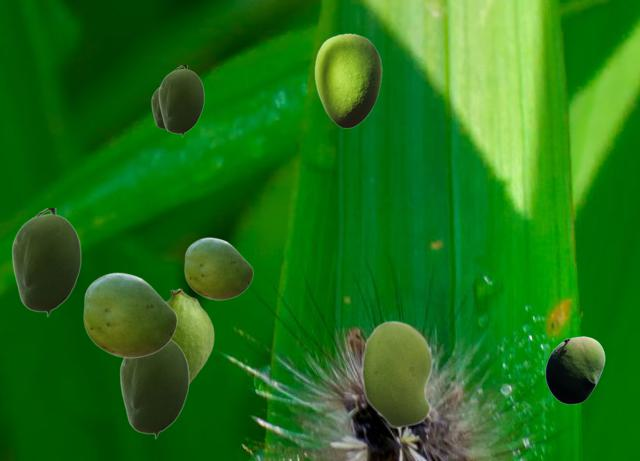green_mango: (83, 272, 176, 357), (361, 320, 432, 428), (11, 208, 80, 316), (119, 339, 188, 438), (314, 33, 381, 127), (166, 288, 213, 384), (184, 237, 252, 299), (545, 336, 604, 403), (158, 65, 203, 136), (151, 87, 165, 129)
